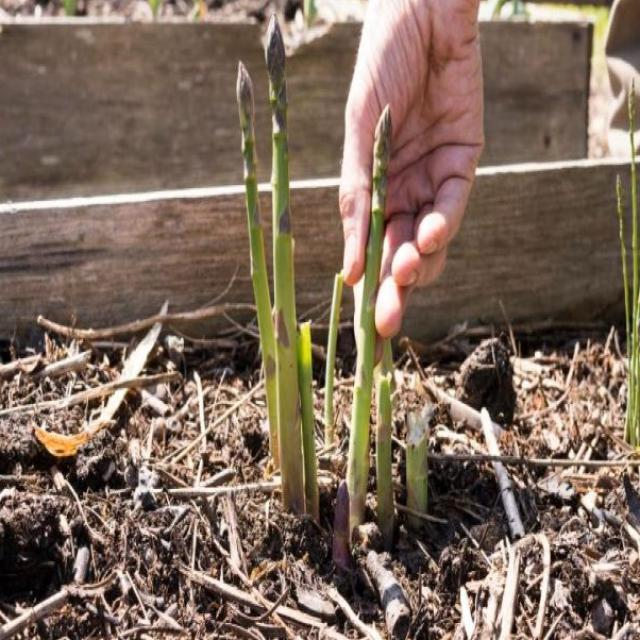aspargus: (262, 2, 303, 521), (235, 64, 281, 474), (349, 96, 390, 525)
